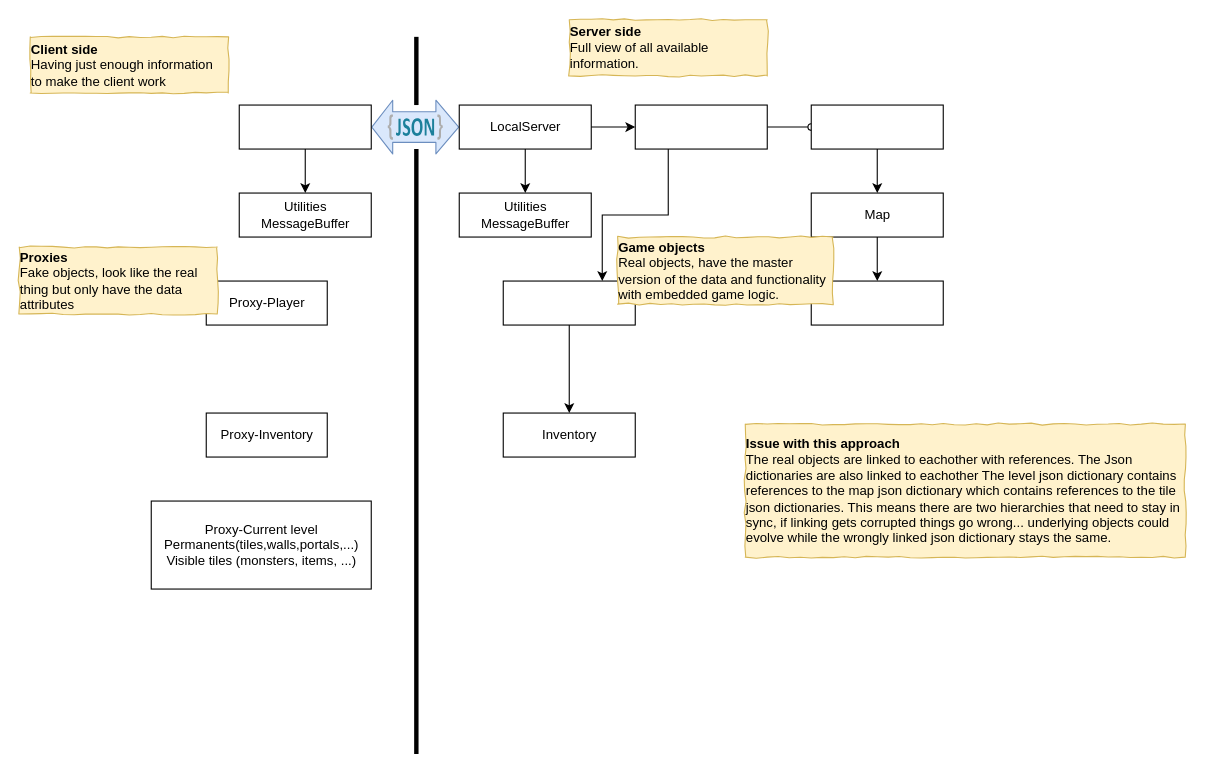
The diagram is 1205 pixels wide and 774 high, and some of its shapes have lost their labels. The shapes that lost their labels are listed below. From the top down, each one's centre as x and y in pixels, then its label:
At pixel 304 126: "RemoteServer".
At pixel 700 126: "Game".
At pixel 876 126: "Level".
At pixel 568 302: "Player".
At pixel 876 302: "Tile".
